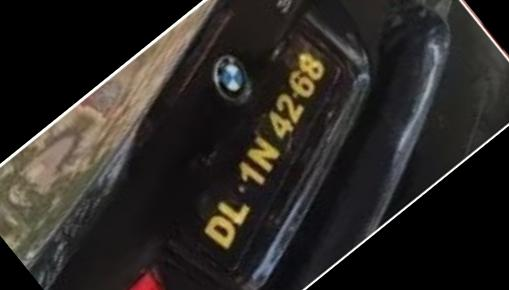plate: (130, 26, 406, 274)
